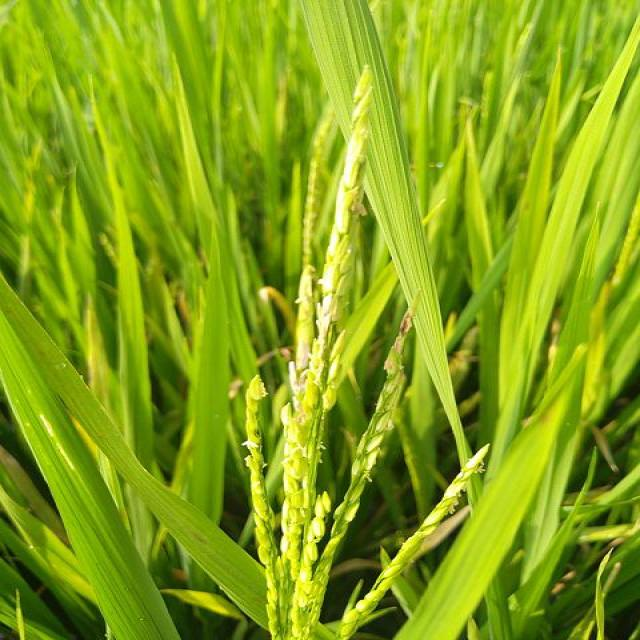Panicle Blight: (385, 313, 413, 381)
